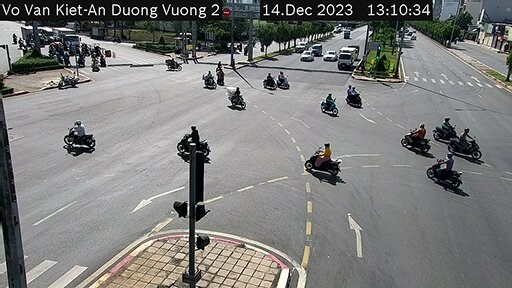car: (302, 50, 317, 65), (323, 48, 334, 64)
motorbike: (448, 121, 489, 160), (306, 143, 346, 180), (430, 153, 465, 191), (400, 119, 434, 157), (62, 120, 96, 151), (431, 112, 455, 142), (226, 85, 246, 112), (317, 92, 339, 114), (342, 85, 364, 107), (211, 58, 227, 86), (201, 67, 218, 91), (261, 72, 280, 92), (274, 69, 291, 88)
truck: (339, 47, 355, 69)
